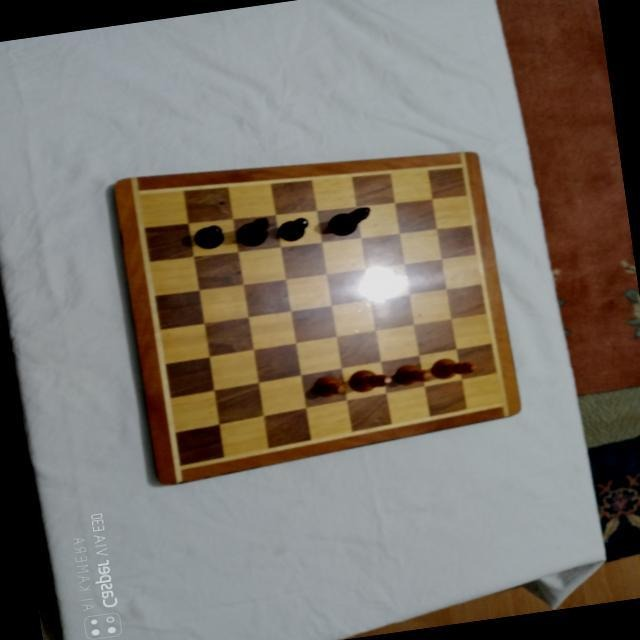black-bishop: (326, 206, 373, 238), (233, 216, 273, 249)
black-pawn: (275, 217, 310, 243), (192, 224, 225, 251)
white-bishop: (346, 366, 393, 394), (430, 355, 478, 381)
white-pawn: (393, 360, 434, 387), (312, 373, 347, 399)
